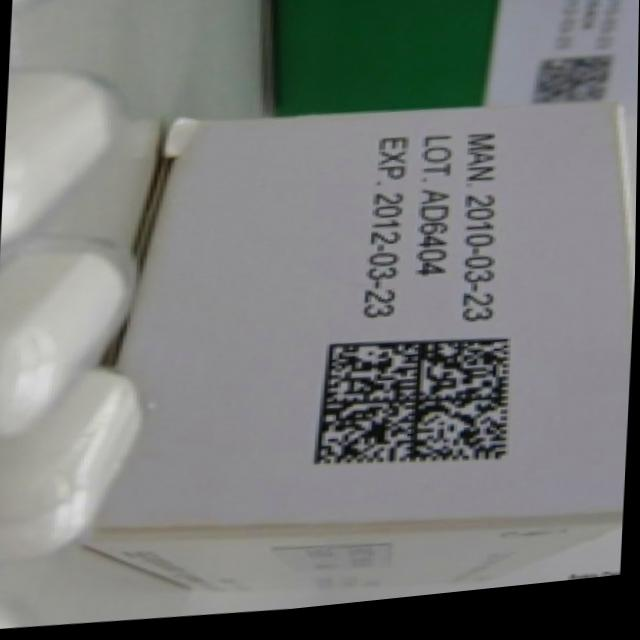datamatrix: (300, 326, 525, 498)
